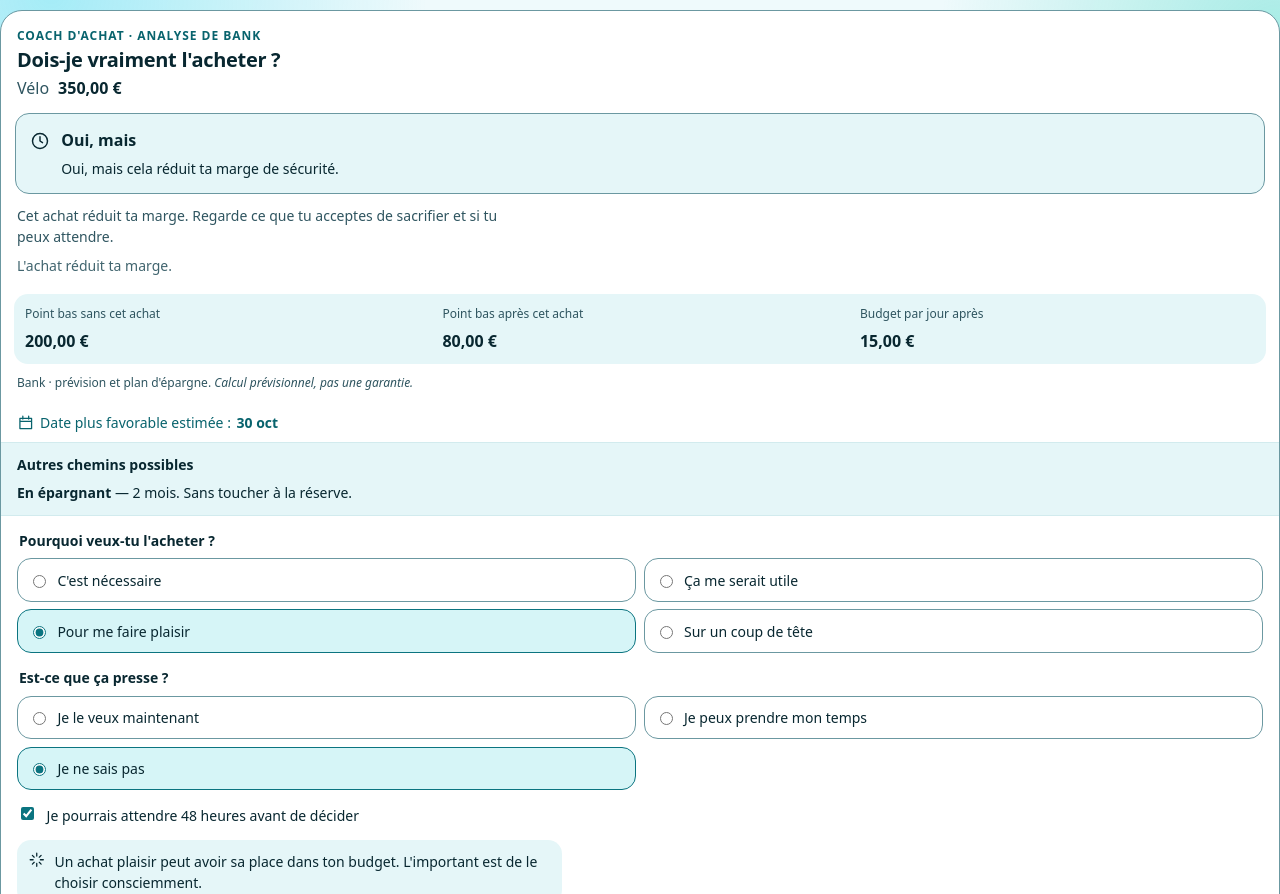
Scenario: coach d'achat dans le chat › reasons without pressuring the user, and sends answers only on button click
The image size is (1280, 894).
Click the radio button labelled "Sur un coup de tête" at (666, 633), box [660,626,673,639]
(page scrolled)
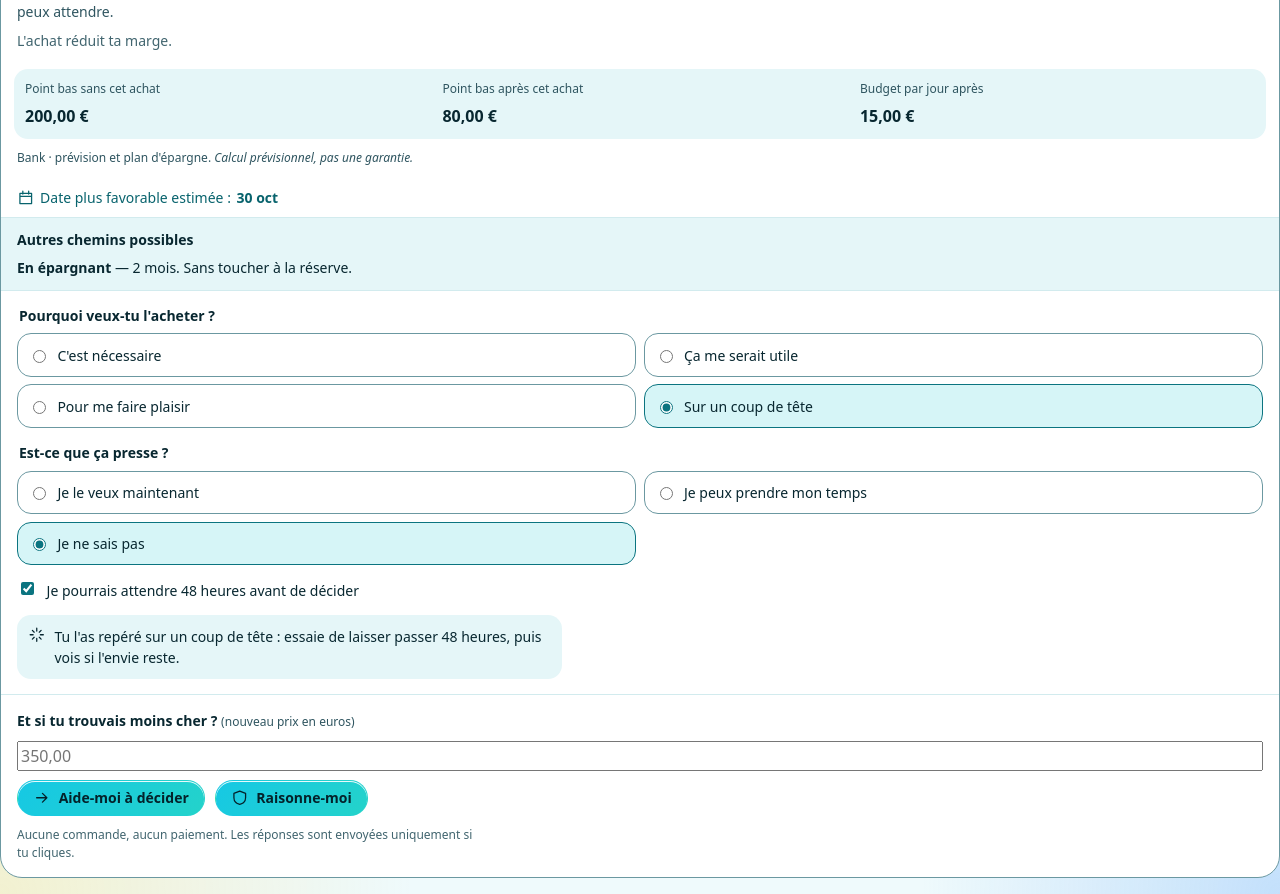
expect the element with class "chat-purchase-reflection" shows "48 heures": met, box [54,627,542,667]
Click the button "Aide-moi à décider" at (111, 798), box [17,780,205,816]
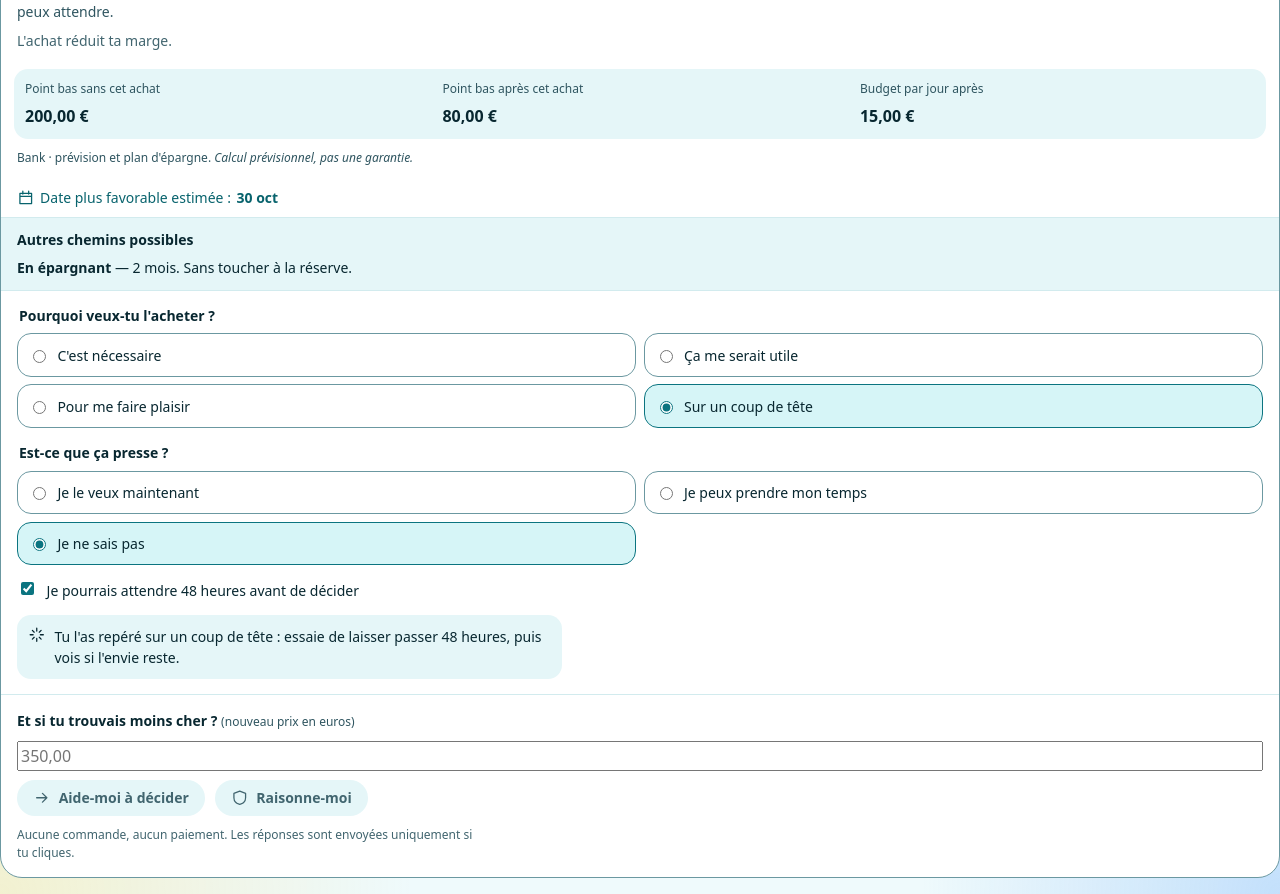
expect the button "Aide-moi à décider" is disabled: met, box [17,780,205,816]
